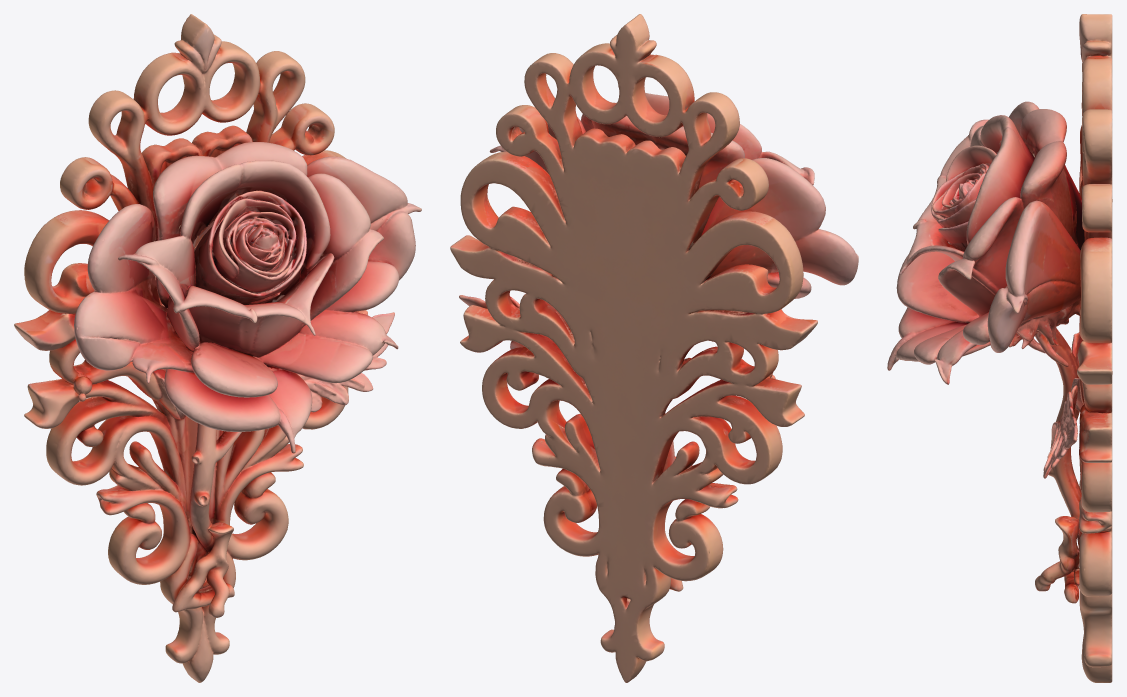
The model's file is Meshy_AI_High_detail_wall_dec_1016065830_texture.fbx.
The picture shows the model from 3 angles, left to right: view 1: azimuth 30°, elevation 25°; view 2: azimuth 150°, elevation 25°; view 3: azimuth 270°, elevation 25°; orthographic projection.
Visible parts, largest first — view 1: Mesh_0; view 2: Mesh_0; view 3: Mesh_0.
Part boxes in pixels (x1,y1,x2,y2): Mesh_0: (14, 14, 421, 682); Mesh_0: (450, 14, 858, 682); Mesh_0: (887, 14, 1112, 682).
Size of the model in its own units: 109 by 190 by 58.08.
1 material, 1 textured.
